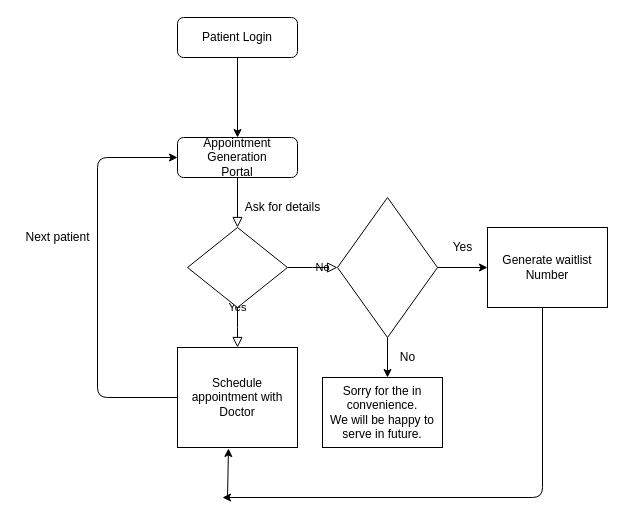
This 625x523 diagram has some shape labels left out. The centre of each missing label's shape, as x and y in pixels:
Comfortable with Waitlist?: pixel 387 267
Desired appointment Available?: pixel 237 267
